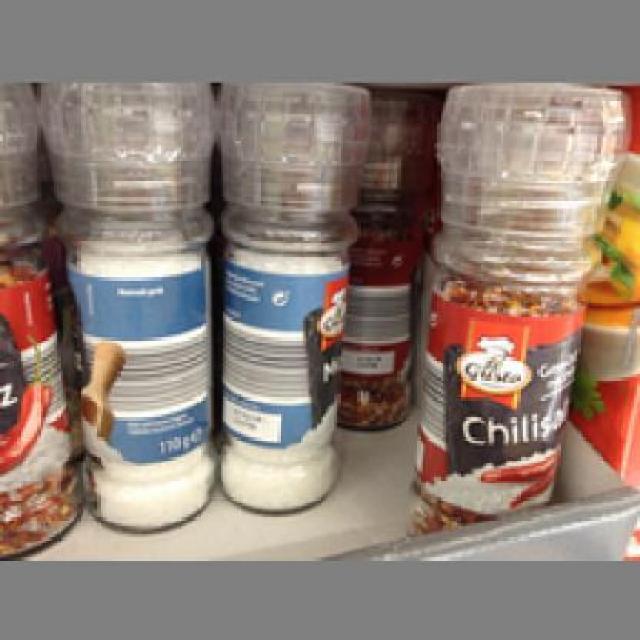Spices: (406, 82, 626, 532), (34, 82, 217, 532), (212, 80, 368, 509)
